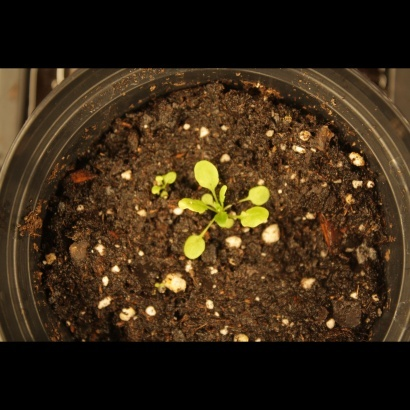leaf: (193, 156, 224, 192), (236, 206, 273, 233), (177, 199, 212, 222), (245, 181, 275, 207), (183, 234, 207, 262), (139, 186, 162, 209), (163, 163, 186, 186), (196, 187, 219, 210), (214, 210, 237, 233), (217, 183, 240, 206)
